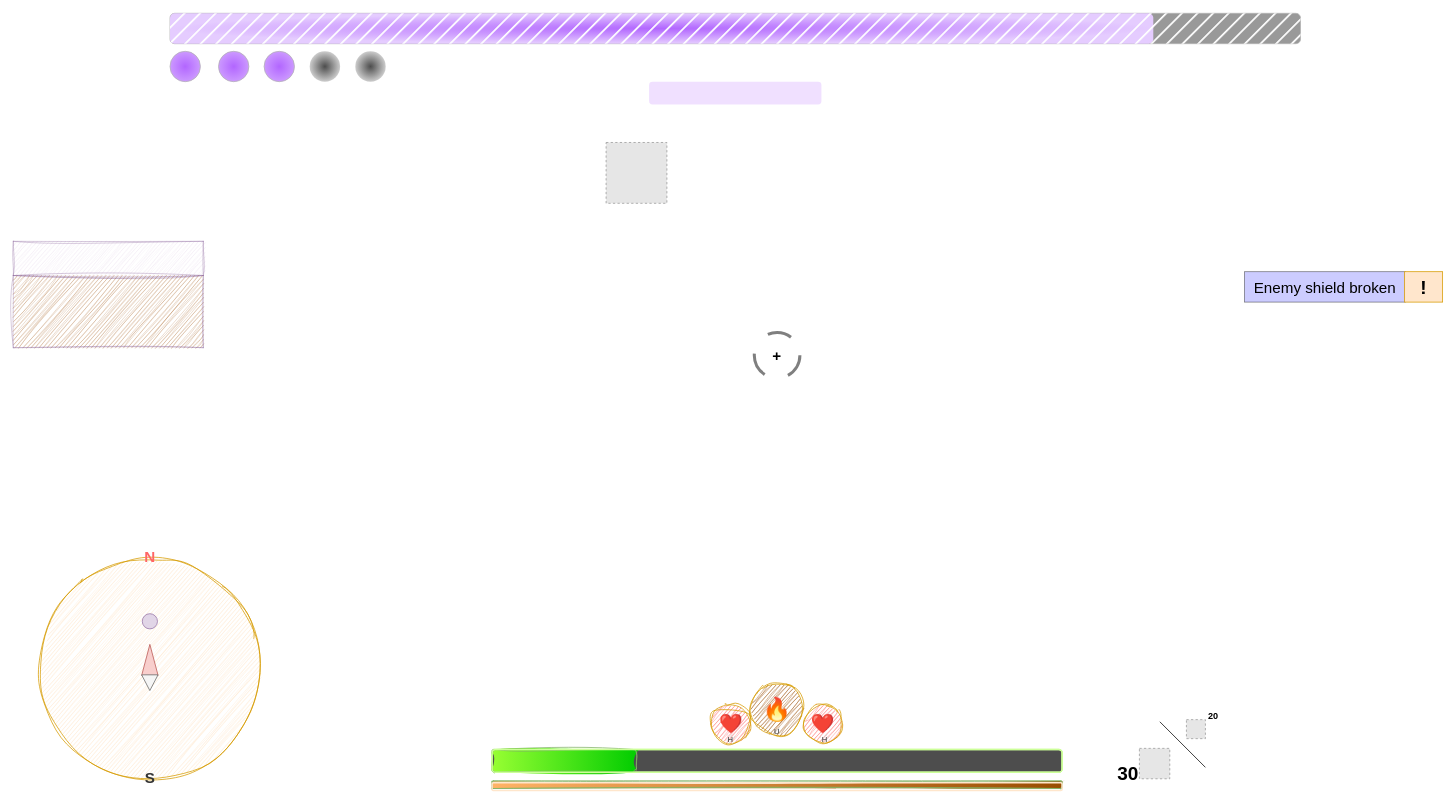
This 1456x804 diagram has some shape labels left out. Grey dashed boxes stand in for pictures. The centre of each missing label's shape, as x and y in pixels:
"Defeat the nameless king" belongs at [108,311].
"Nameless King _" belongs at [735,92].
"Quest Objective" belongs at [108,258].
